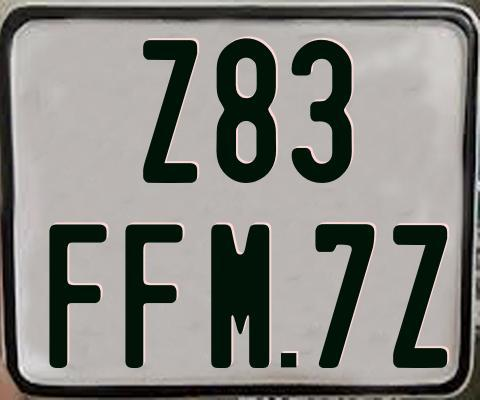3: (290, 37, 353, 185)
7: (315, 221, 377, 369)
8: (213, 36, 275, 182)
F: (47, 224, 107, 374), (125, 222, 184, 366)
M: (211, 224, 272, 369)
Z: (393, 222, 452, 370), (140, 40, 198, 185)
